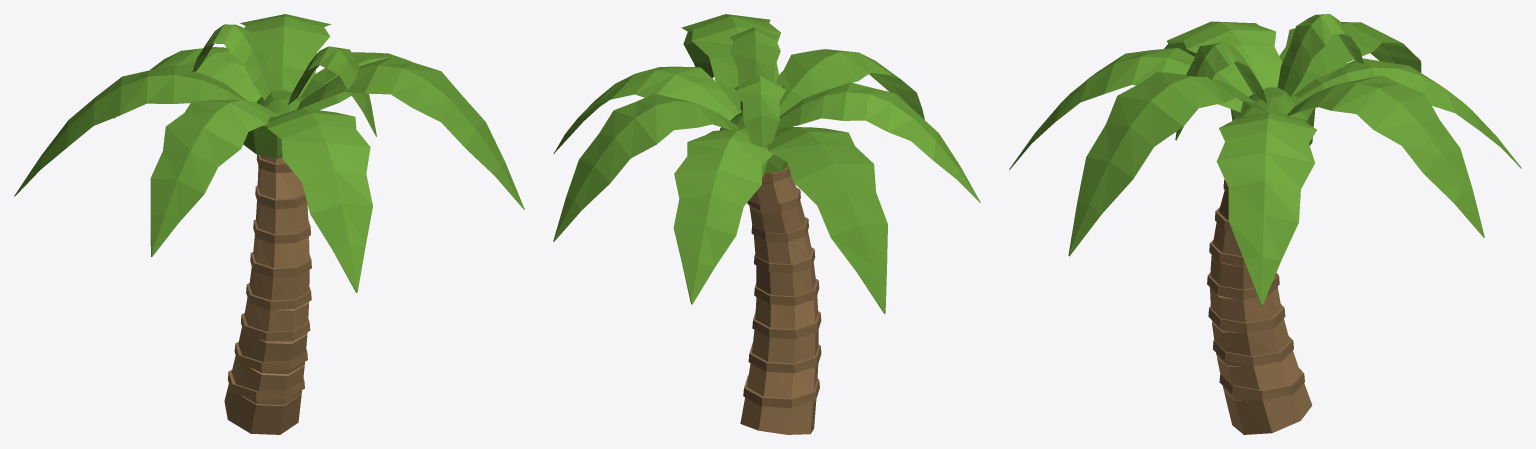
The model's file is 03_young_palm.glb.
The picture shows the model from 3 angles, left to right: view 1: azimuth 30°, elevation 25°; view 2: azimuth 150°, elevation 25°; view 3: azimuth 270°, elevation 25°; orthographic projection. The views are drawn at different scales.
Visible parts, largest first — view 1: 03_young_palm; view 2: 03_young_palm; view 3: 03_young_palm.
Part boxes in pixels (x1=…): 03_young_palm: x1=14, y1=14, x2=524, y2=434; 03_young_palm: x1=553, y1=14, x2=980, y2=434; 03_young_palm: x1=1009, y1=14, x2=1521, y2=434.
Bounding box in the file's own units: 2.06 × 1.83 × 2.09.
